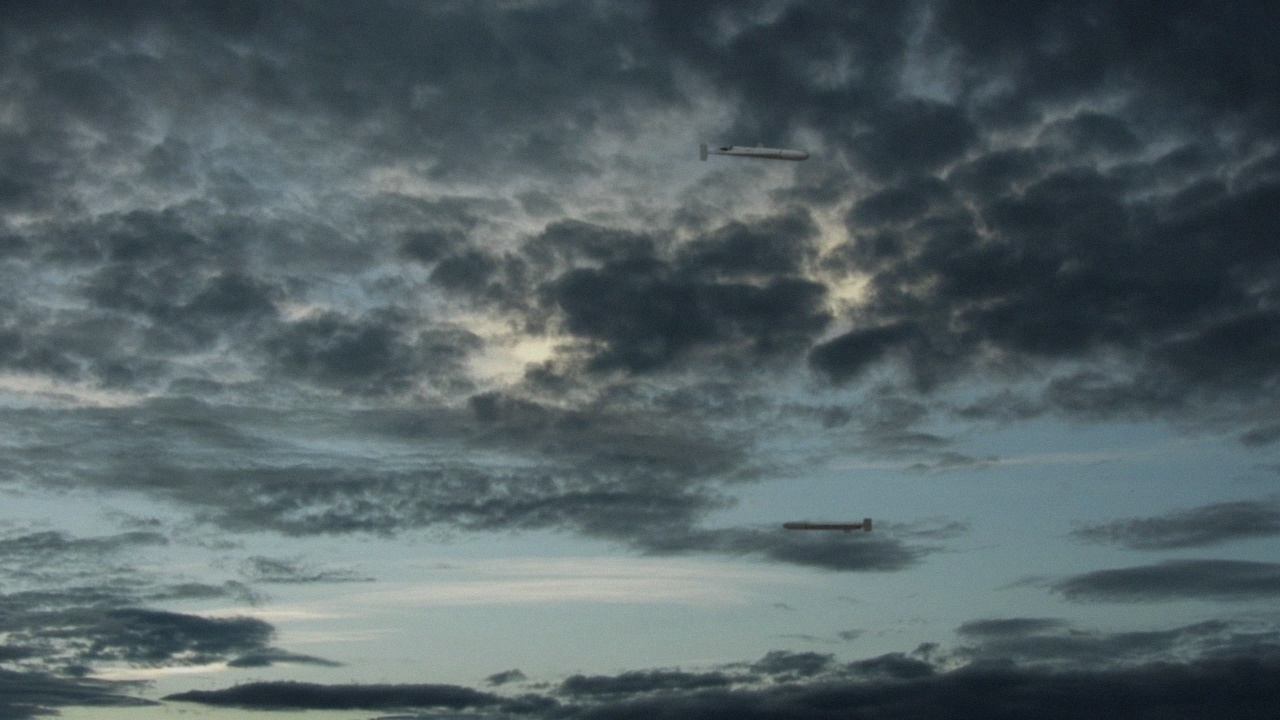shahed: (697, 140, 810, 163), (780, 515, 874, 534)
